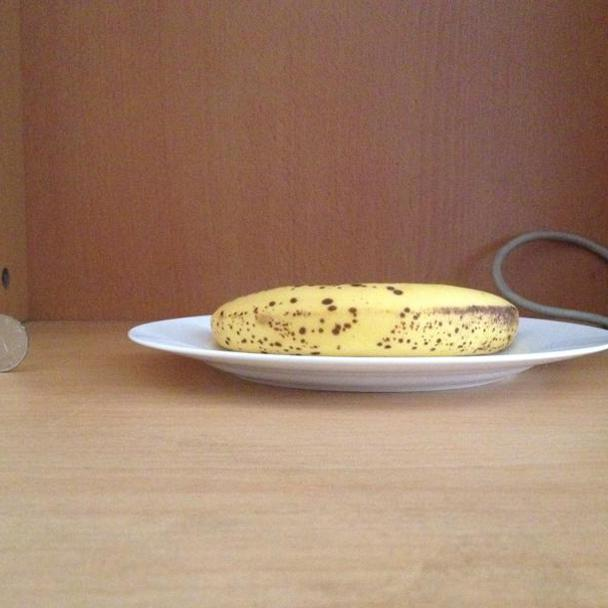banana: (204, 281, 526, 356)
